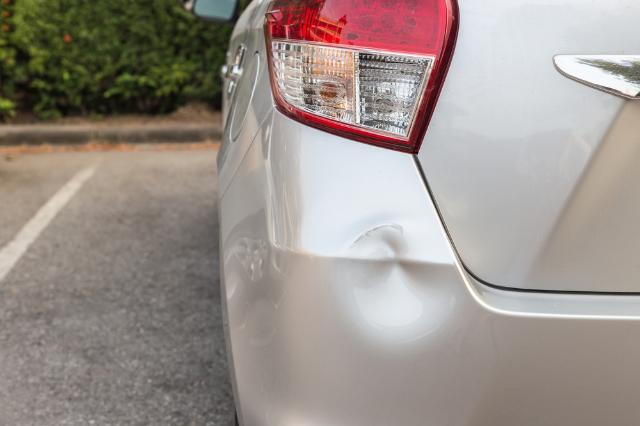dent: (345, 225, 450, 341)
